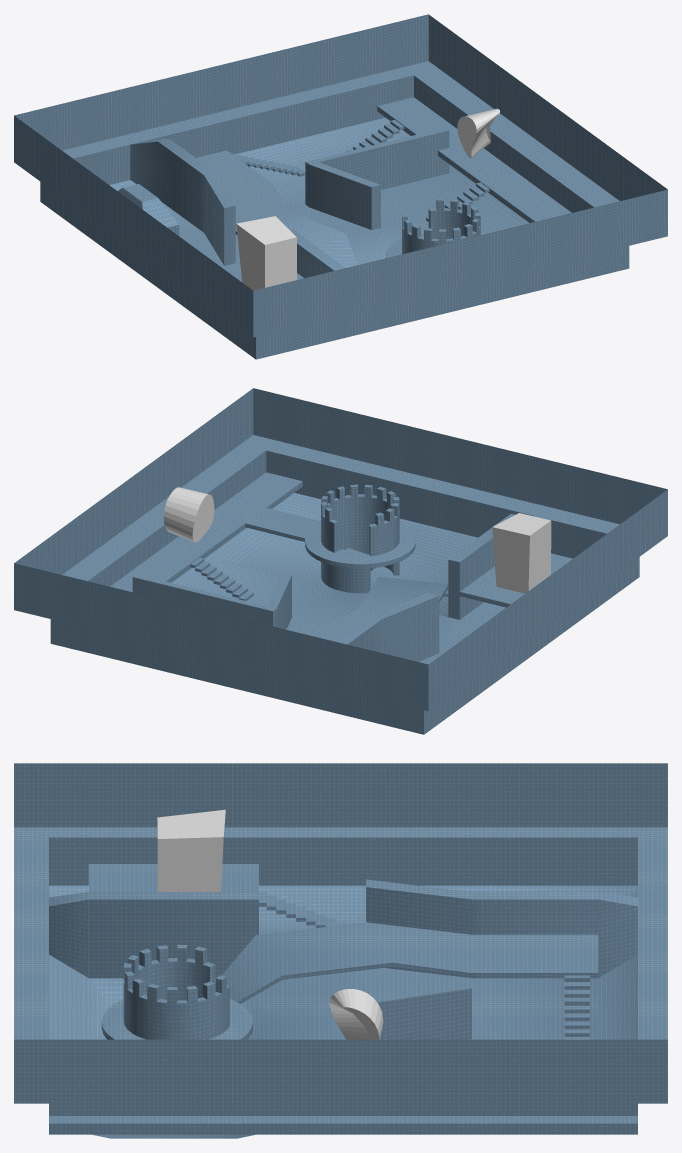
3 views of the same model, one above another, from view 1: azimuth 30°, elevation 25°; view 2: azimuth 150°, elevation 25°; view 3: azimuth 270°, elevation 25° (orthographic). The views are drawn at different scales.
Parts seen in each view (by area): view 1: Cube.004, Cube, Cylinder; view 2: Cube.004, Cube, Cylinder; view 3: Cube.004, Cube, Cylinder.
Boxes of the visible parts, x1,y1,x2,y2 form: Cube.004: [14, 14, 667, 359]; Cube: [236, 216, 296, 290]; Cylinder: [457, 108, 499, 157]; Cube.004: [14, 388, 667, 734]; Cube: [492, 513, 551, 593]; Cylinder: [163, 487, 214, 542]; Cube.004: [14, 763, 667, 1138]; Cube: [157, 809, 225, 891]; Cylinder: [329, 989, 383, 1039].
Bounding box in the file's own units: 34.59 × 8.75 × 34.59.
1 material, 1 textured.
